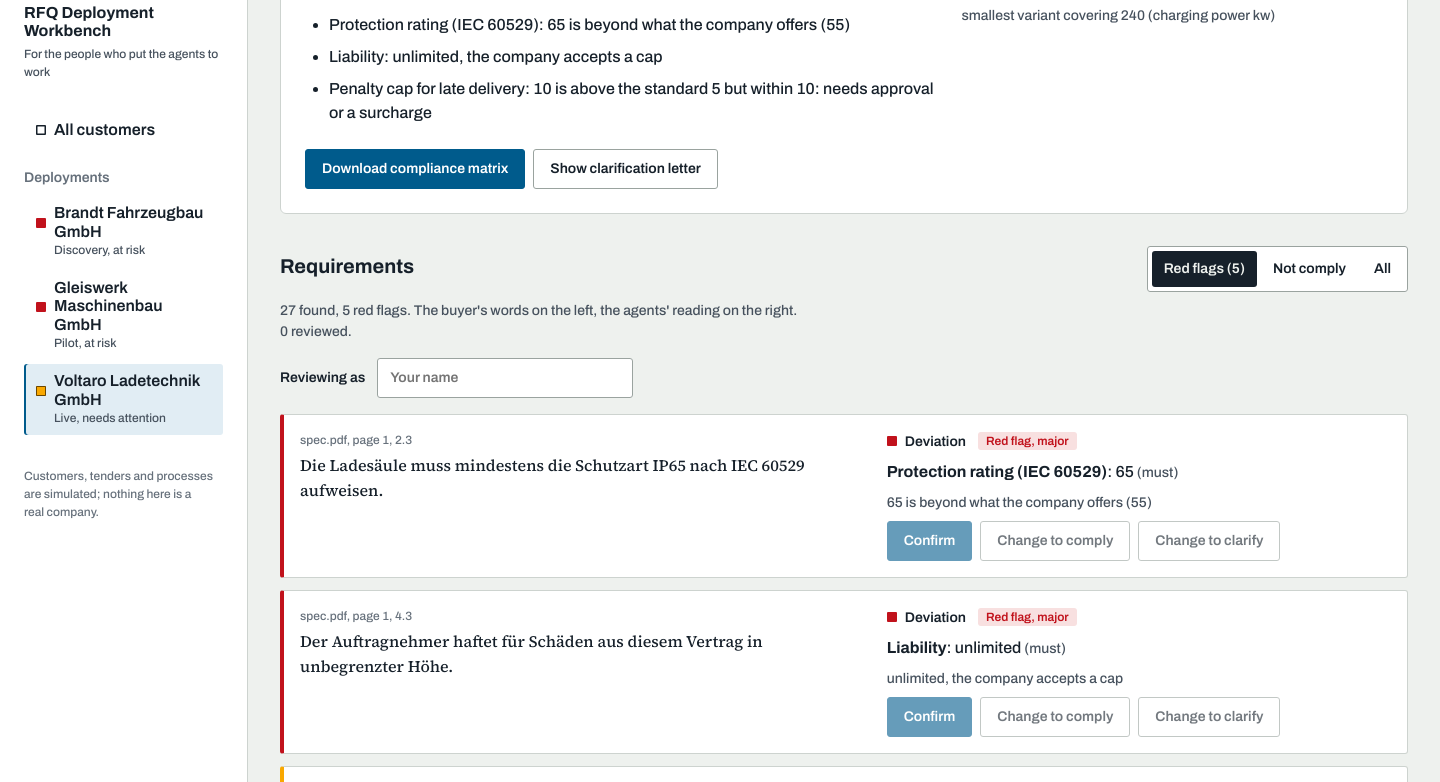
Test case: tender review › needs a name before a review, then records a correction
(page scrolled)
Type "Sabine Kraus" into the field labelled "Reviewing as" at (505, 378), box left=377, top=358, right=633, bottom=398
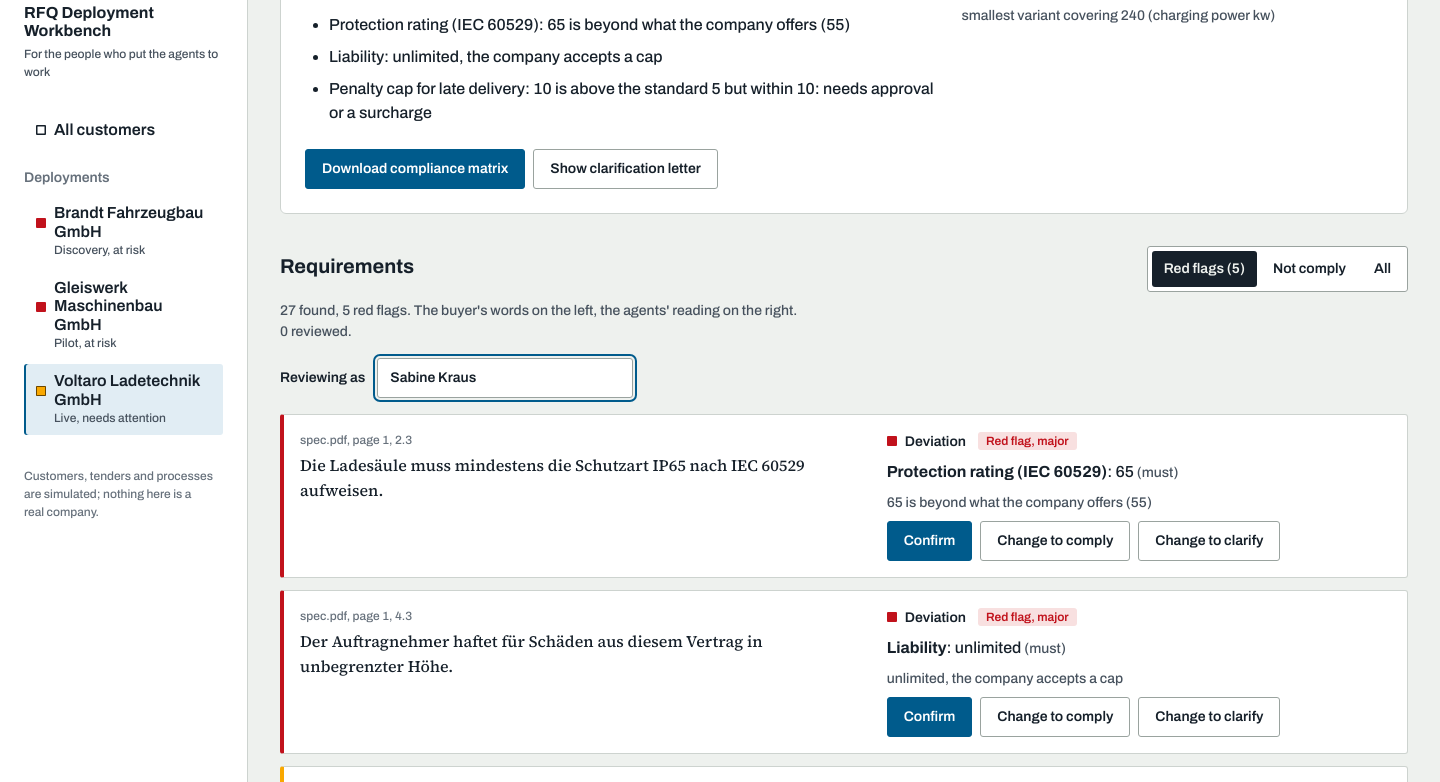
Click the 1st button "Change to clarify" at (1209, 541), box left=1138, top=521, right=1280, bottom=561
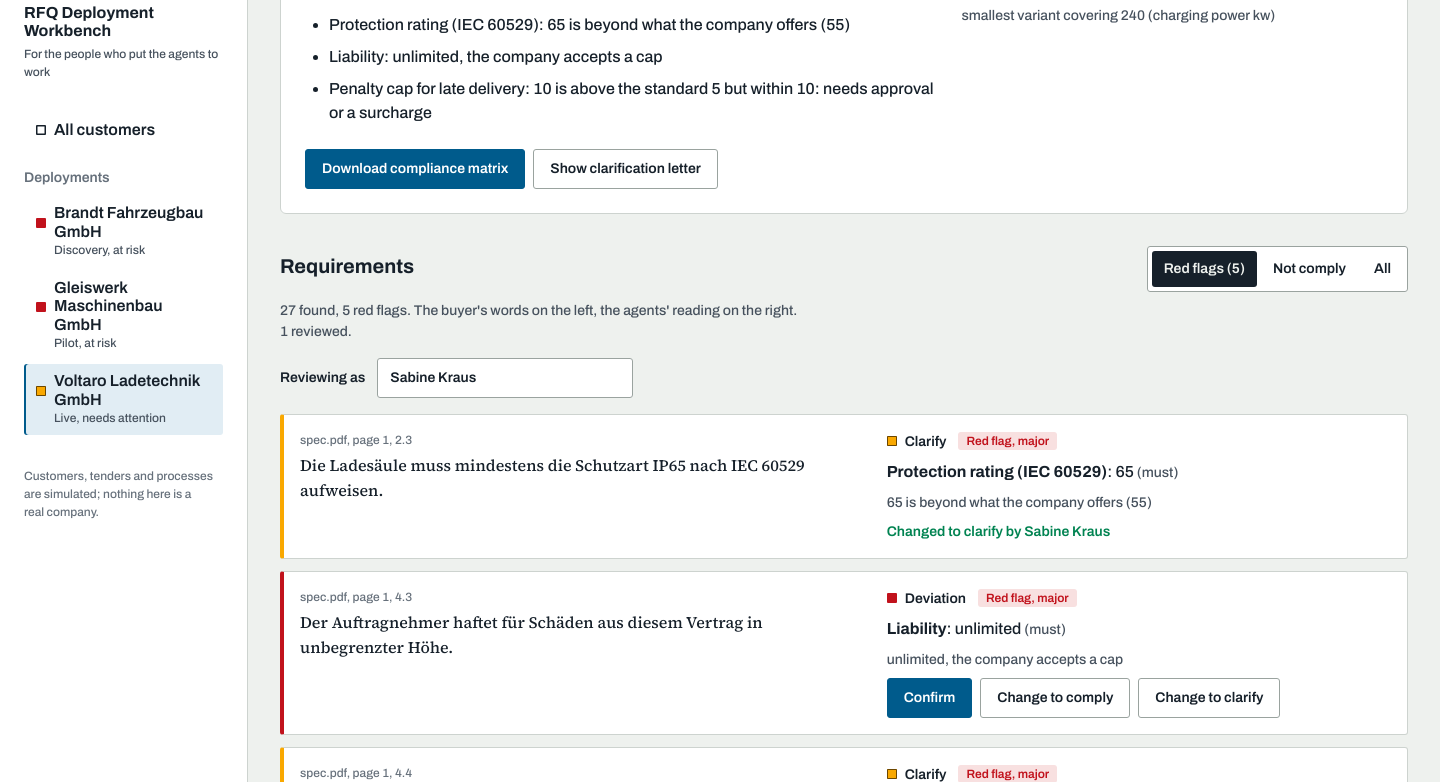
Result: the text "Changed to clarify by Sabine Kraus" is shown at left=887, top=524, right=1110, bottom=539
